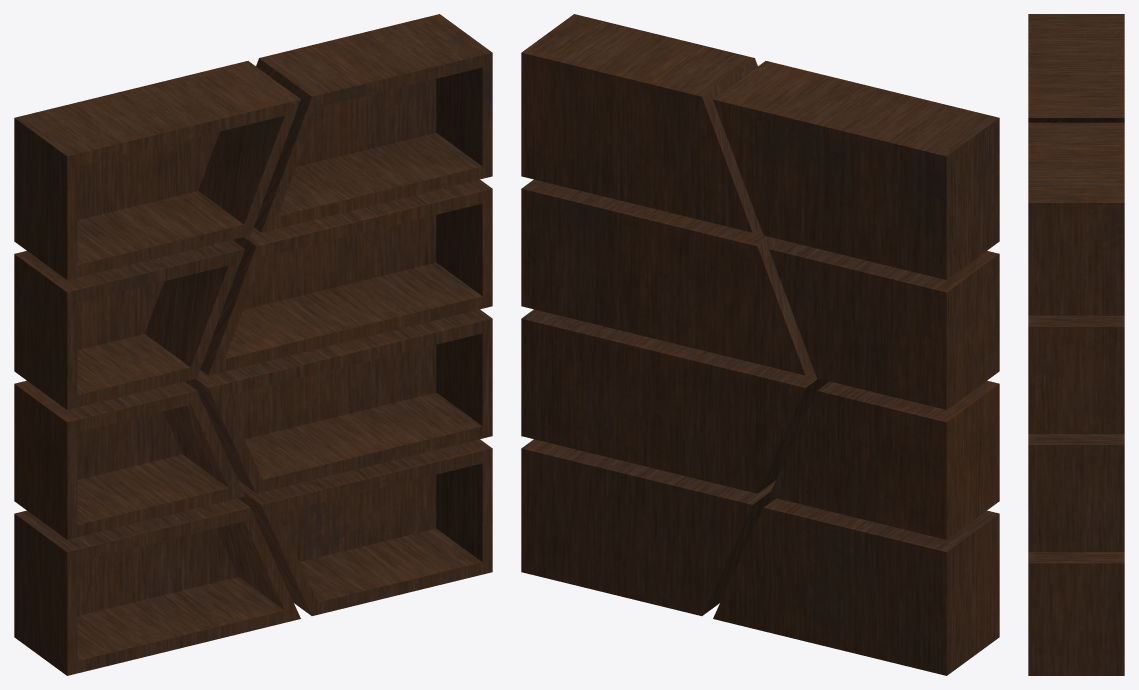
3 views of the same model, side by side, from view 1: azimuth 30°, elevation 25°; view 2: azimuth 150°, elevation 25°; view 3: azimuth 270°, elevation 25° (orthographic). The views are drawn at different scales.
Parts seen in each view (by area): view 1: Cabinet04; view 2: Cabinet04; view 3: Cabinet04.
Part boxes in pixels (bbox=[...]): Cabinet04: bbox=[14, 14, 492, 675]; Cabinet04: bbox=[521, 14, 999, 675]; Cabinet04: bbox=[1028, 14, 1124, 675].
Size of the model in its own units: 1.83 by 2.13 by 0.3937.
1 material, 1 textured.
